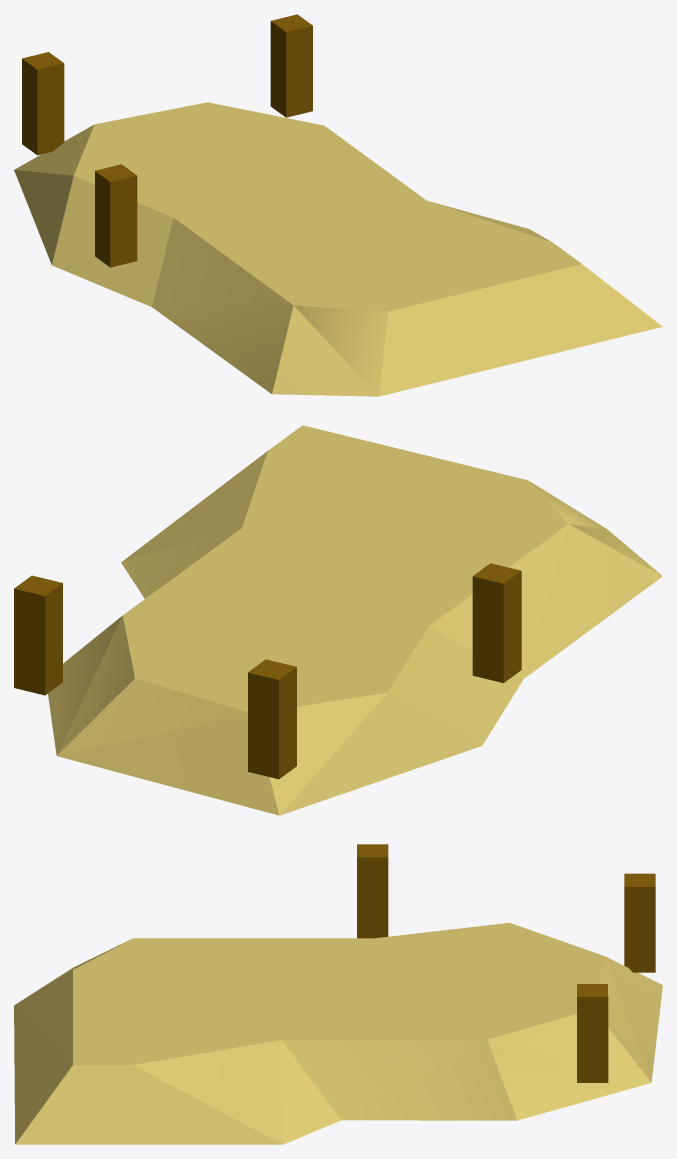
The model's file is DeadEnd_1.fbx.
3 renders of one model, top to bottom at view 1: azimuth 30°, elevation 25°; view 2: azimuth 150°, elevation 25°; view 3: azimuth 270°, elevation 25°, orthographic. The views are drawn at different scales.
Parts seen in each view (by area): view 1: Normal - Dead End; view 2: Normal - Dead End; view 3: Normal - Dead End.
Part boxes in pixels (box(x1,y1,x2,y2)): Normal - Dead End: box(14, 14, 662, 396); Normal - Dead End: box(14, 425, 662, 815); Normal - Dead End: box(14, 844, 662, 1144).
Size of the model in its own units: 76.22 by 21.12 by 108.
